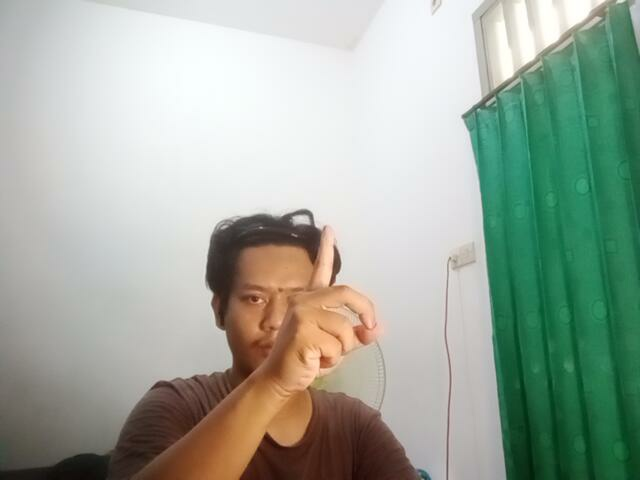D: (275, 222, 381, 395)
